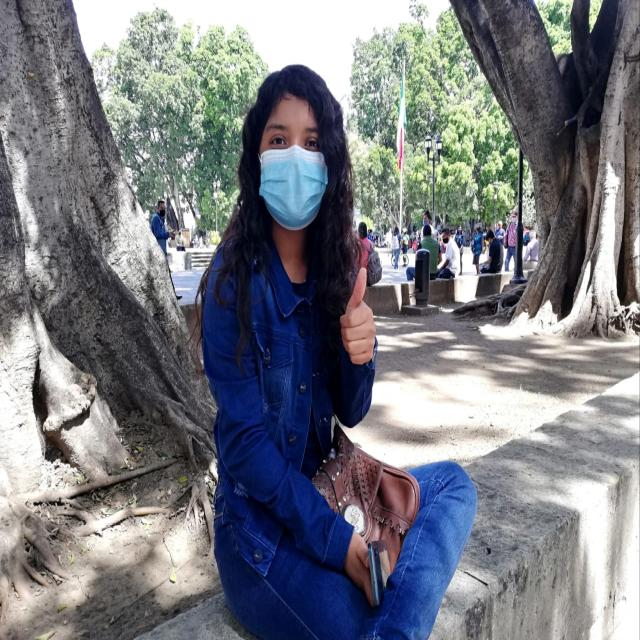adult: (202, 60, 473, 640)
